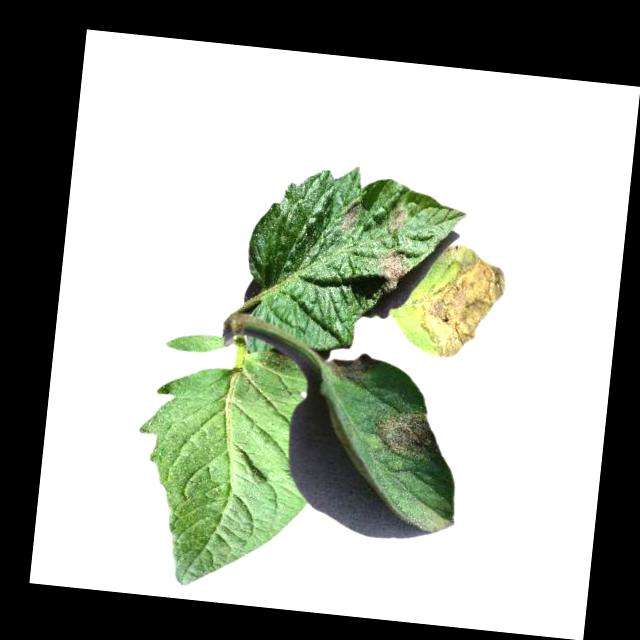Late_blight: (405, 239, 510, 364), (369, 409, 438, 463), (325, 350, 379, 385), (374, 248, 410, 294), (338, 201, 362, 234), (384, 204, 409, 235)
